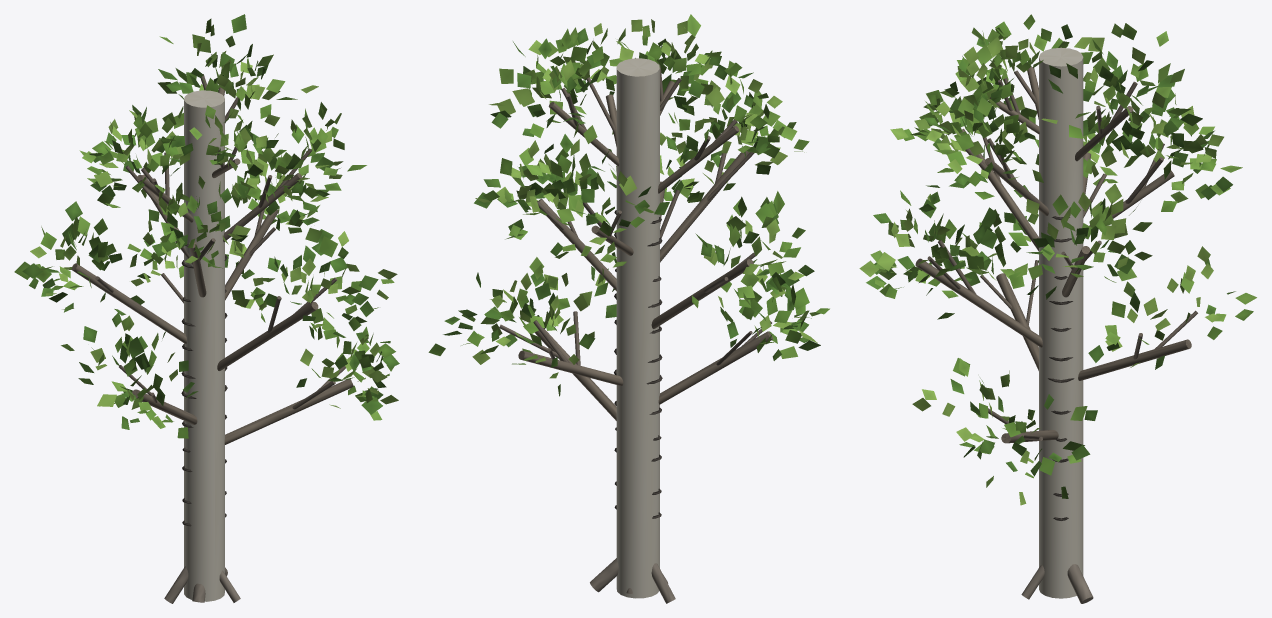
File: small-lod0.glb
The picture shows the model from 3 angles, left to right: view 1: azimuth 30°, elevation 25°; view 2: azimuth 150°, elevation 25°; view 3: azimuth 270°, elevation 25°; orthographic projection. The views are drawn at different scales.
Parts seen in each view (by area): view 1: birch-bifurcated-twigs-and-leaves, birch-bark-branches-buried-roots-ground-blend; view 2: birch-bifurcated-twigs-and-leaves, birch-bark-branches-buried-roots-ground-blend; view 3: birch-bifurcated-twigs-and-leaves, birch-bark-branches-buried-roots-ground-blend.
Part boxes in pixels (x1=…): birch-bifurcated-twigs-and-leaves: x1=14, y1=14, x2=399, y2=438; birch-bark-branches-buried-roots-ground-blend: x1=71, y1=74, x2=353, y2=603; birch-bifurcated-twigs-and-leaves: x1=428, y1=14, x2=829, y2=396; birch-bark-branches-buried-roots-ground-blend: x1=499, y1=58, x2=772, y2=603; birch-bifurcated-twigs-and-leaves: x1=859, y1=14, x2=1256, y2=505; birch-bark-branches-buried-roots-ground-blend: x1=915, y1=47, x2=1197, y2=603.
Size of the model in its own units: 8.4 by 12 by 7.33.
